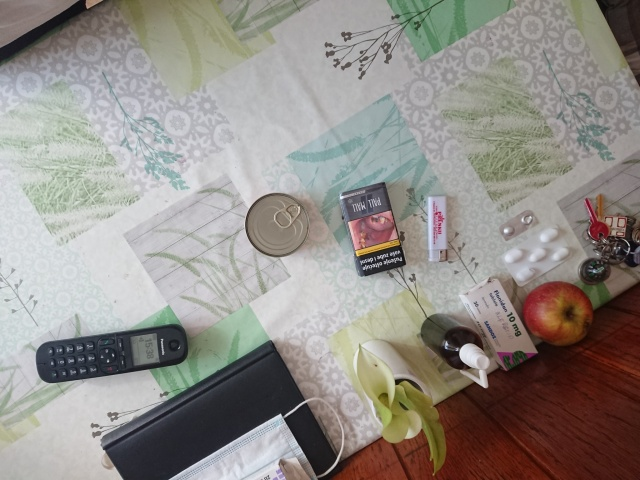Gavrilovic Pork Liver Pate 100g: (242, 189, 311, 259)
